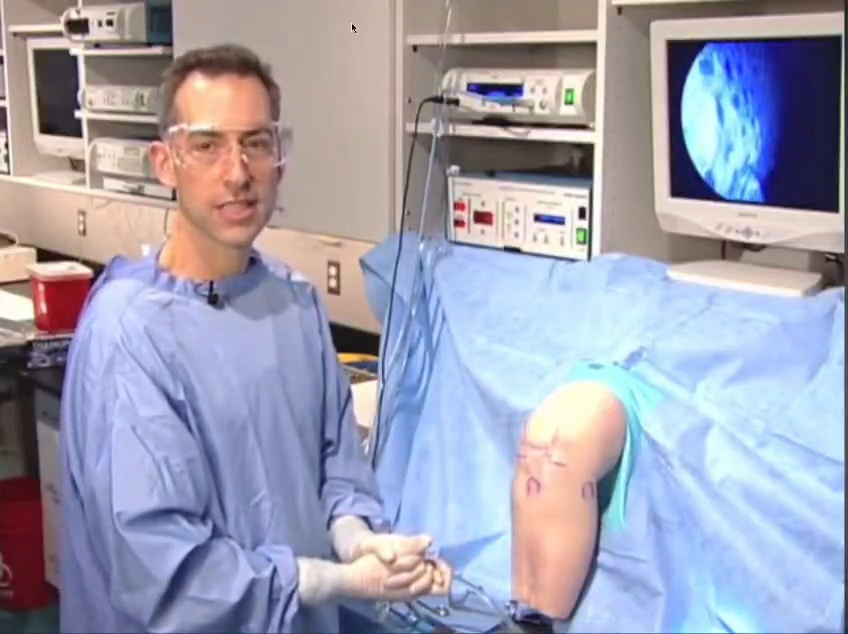probe: (681, 577, 766, 634)
